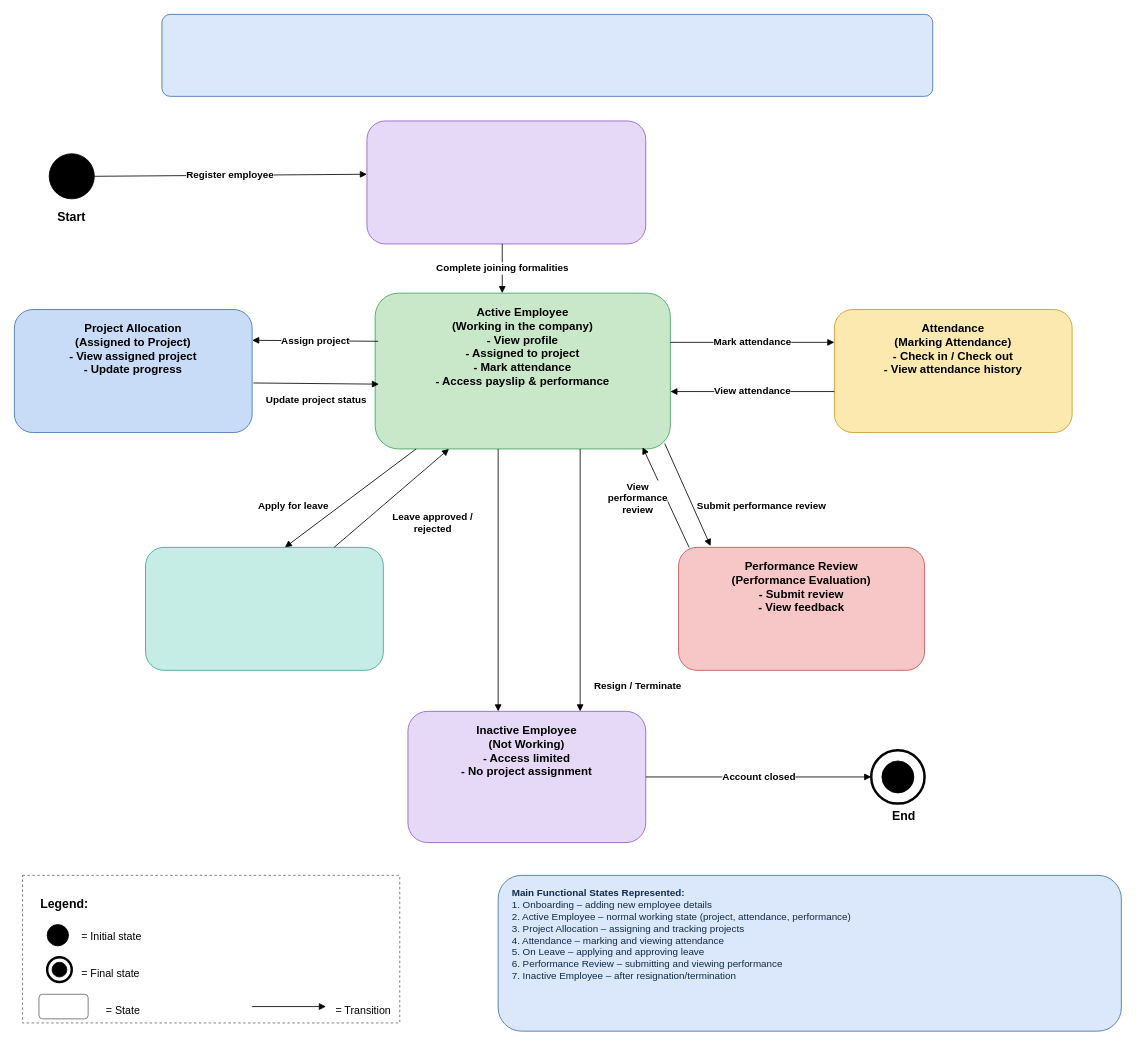
Some shapes in this 1136 by 1046 pixel diagram are drawn without their labels. Each missing label, with the centre of its shape:
"On Leave (Approved Leave) - Apply for leave - View leave status" goes at point 264,608.
"Onboarding (Employee Registered) - Add personal details - Create account" goes at point 506,182.
"State Machine Diagram Software Personnel Management System (SPMS)" goes at point 547,55.
